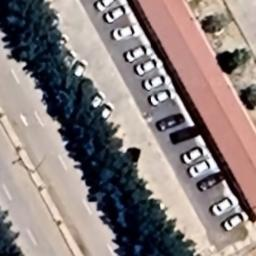sedan: (108, 20, 144, 44), (178, 142, 210, 167), (150, 111, 187, 132), (219, 209, 250, 234), (210, 193, 240, 217), (187, 154, 218, 177), (122, 42, 152, 64), (145, 89, 178, 108), (105, 4, 131, 26), (134, 58, 162, 78), (69, 57, 92, 81), (141, 72, 171, 90), (98, 98, 116, 120), (90, 88, 107, 110), (96, 1, 114, 11)
unknown: (195, 166, 228, 192), (168, 124, 200, 146)
